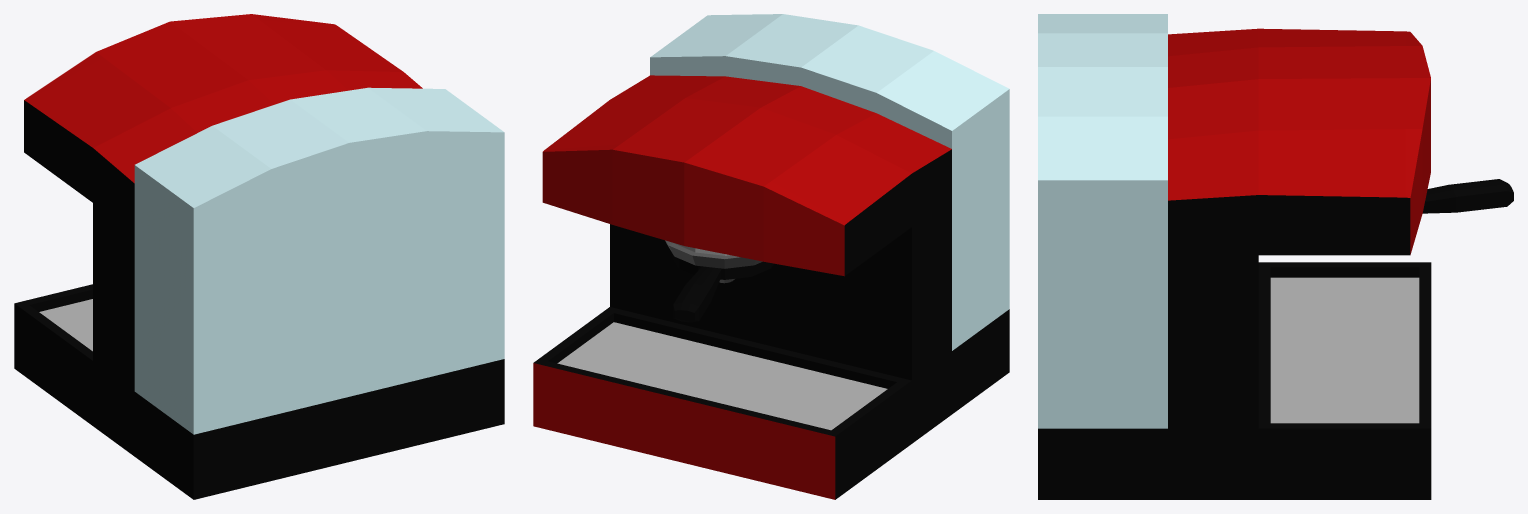
File: CoffeeMachine.fbx
3 views of the same model, side by side, from view 1: azimuth 30°, elevation 25°; view 2: azimuth 150°, elevation 25°; view 3: azimuth 270°, elevation 25° (orthographic). The views are drawn at different scales.
Visible parts, largest first — view 1: Cube.002; view 2: Cube.002; view 3: Cube.002.
Boxes of the visible parts, x1=… form: Cube.002: x1=14, y1=14, x2=504, y2=499; Cube.002: x1=533, y1=14, x2=1009, y2=499; Cube.002: x1=1038, y1=14, x2=1513, y2=499.
Size of the model in its own units: 200 by 196 by 242.
